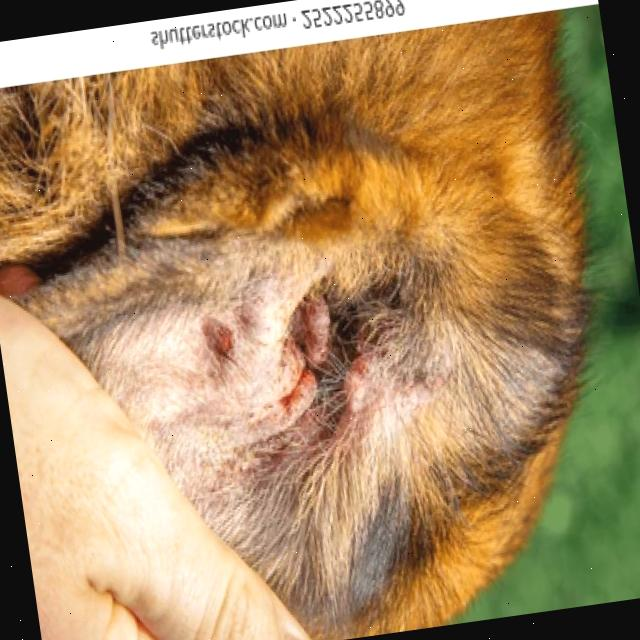cat-dermatitis: (270, 338, 320, 428), (334, 353, 373, 426), (306, 298, 332, 368)
